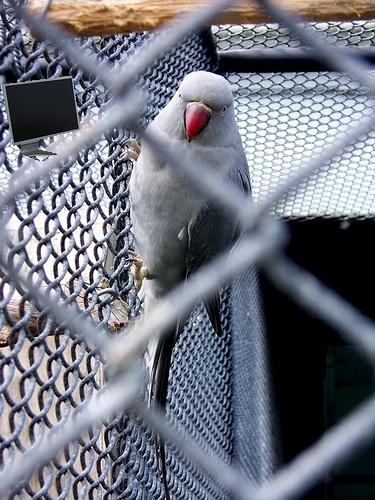tampered: (2, 76, 80, 161)
